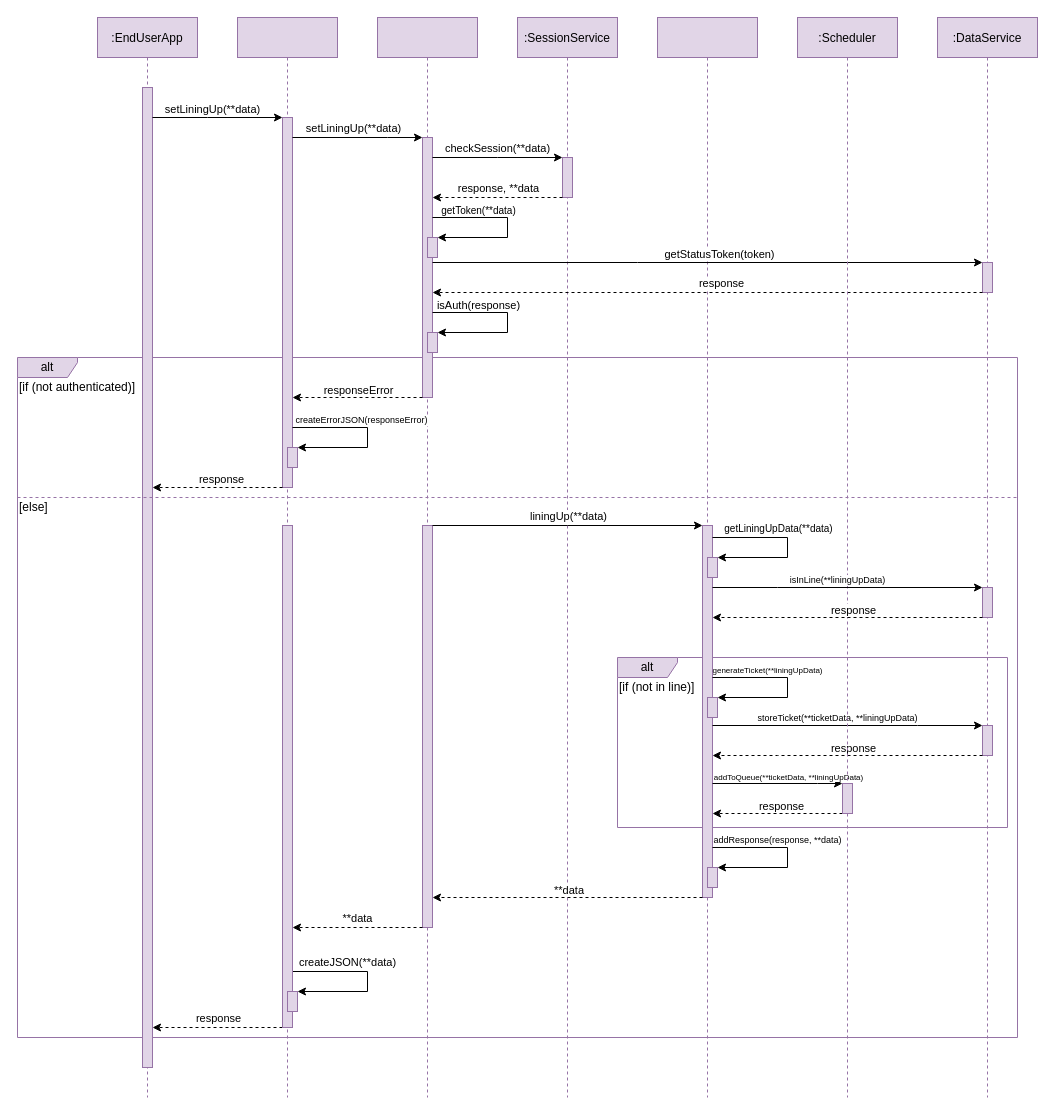
Image size: 1055x1115. Some labels were removed from this diagram. Here are the shapes that lost their labels. From the top down, the centre of each, then its label:
the point at 287,557: :RequestHandler
the point at 427,557: :ServiceHandler
the point at 707,557: :LiningUpService
